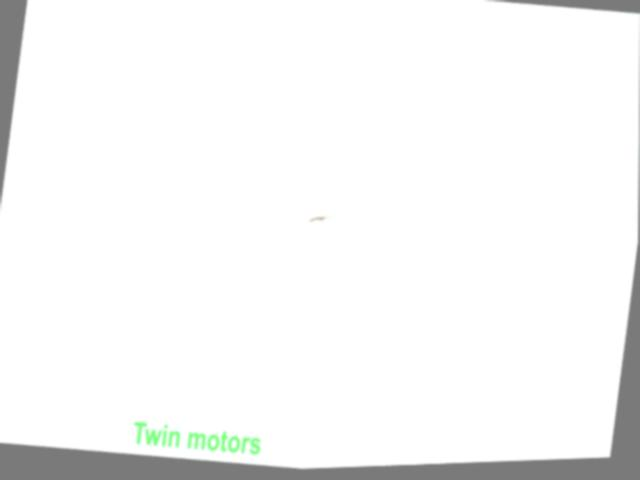plane: (308, 214, 339, 229)
